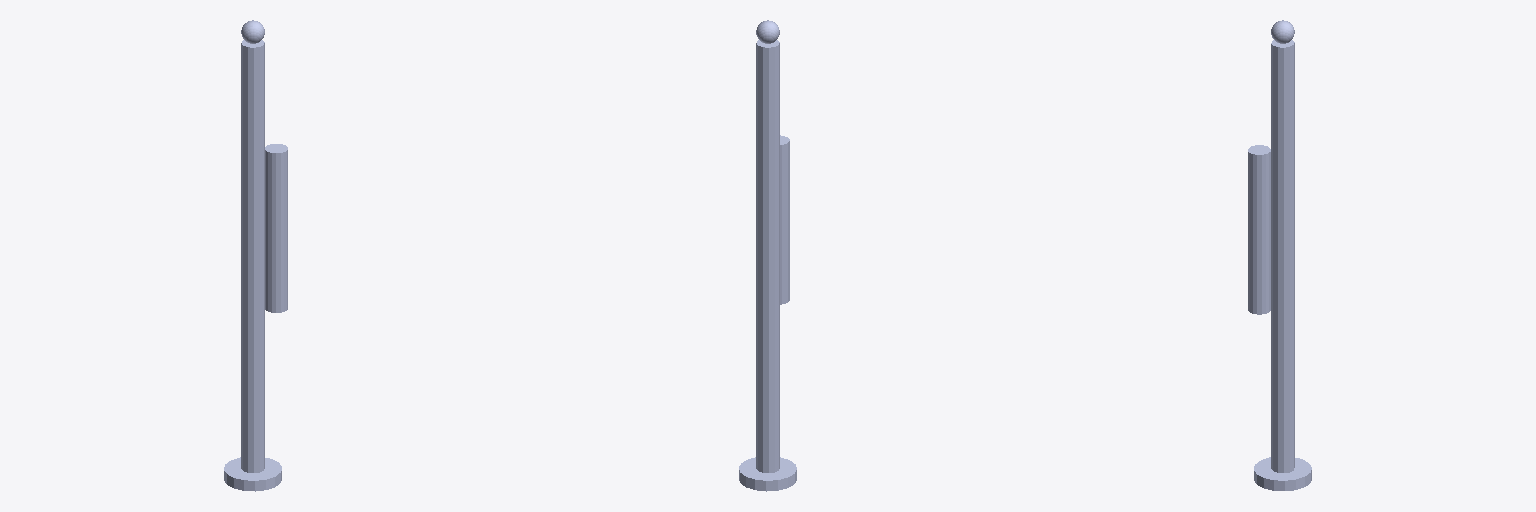
robot.urdf — flare:
<robot
  name="flare">
  <link
    name="base_link">
    <inertial>
      <origin
        xyz="0.00076296 0.40032 0.0095568"
        rpy="0 0 0" />
      <mass
        value="50" />
      <inertia
        ixx="0.70025"
        ixy="-0.00065535"
        ixz="-0.00028377"
        iyy="0.0073069"
        iyz="-0.0082089"
        izz="0.69672" />
    </inertial>
    <visual>
      <origin
        xyz="0 0 0"
        rpy="0 0 0" />
      <geometry>
        <mesh
          filename="package://flare/meshes/base_link.STL" />
      </geometry>
      <material
        name="">
        <color
          rgba="0.79216 0.81961 0.93333 1" />
      </material>
    </visual>
    <collision>
      <origin
        xyz="0 0 0"
        rpy="0 0 0" />
      <geometry>
        <mesh
          filename="package://flare/meshes/base_link.STL" />
      </geometry>
    </collision>
  </link>
</robot>

--- Render facts (derived) ---
3 views of the same robot in one strip: view 1: azimuth 90°, elevation 25°; view 2: azimuth 150°, elevation 25°; view 3: azimuth 270°, elevation 25° (orthographic).
Model flare with 1 links and 0 joints (none), rooted at base_link, posed every joint at zero.
Links seen in each view (by area): view 1: base_link; view 2: base_link; view 3: base_link.
Link boxes in pixels (box(x1,y1,x2,y2)): base_link: box(224, 20, 287, 491); base_link: box(739, 20, 796, 491); base_link: box(1248, 20, 1311, 490).
Bounding box of the posed robot: 0.0997 × 0.1096 × 0.86 m (x, y, z).
Meshes: 1 distinct files referenced, 1 mesh visuals loaded (1 binary STL).